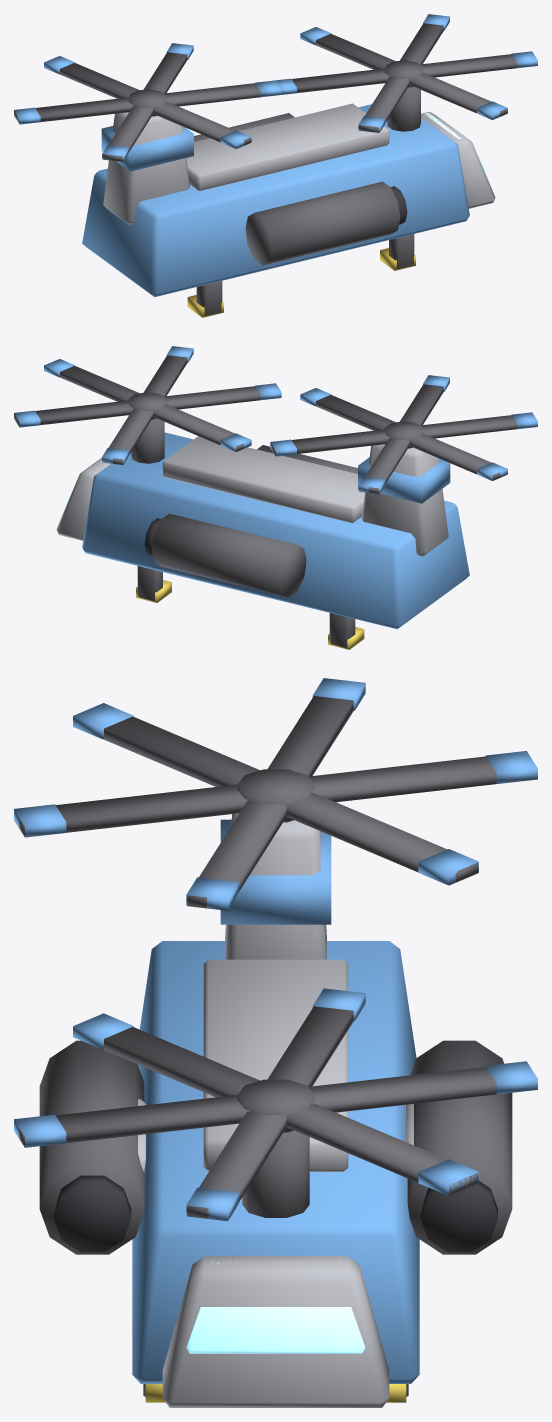
Rendered from carrier.glb.
The picture shows the model from 3 angles, top to bottom: view 1: azimuth 30°, elevation 25°; view 2: azimuth 150°, elevation 25°; view 3: azimuth 270°, elevation 25°; orthographic projection. The views are drawn at different scales.
Visible parts, largest first — view 1: body, rotor2, rotor; view 2: body, rotor2, rotor; view 3: body, rotor, rotor2.
Boxes of the visible parts, left/top/right/bottom form: body: left=82, top=87, right=495, bottom=317; rotor2: left=14, top=43, right=281, bottom=161; rotor: left=276, top=14, right=537, bottom=132; body: left=56, top=418, right=469, bottom=649; rotor2: left=270, top=375, right=537, bottom=493; rotor: left=14, top=346, right=281, bottom=464; body: left=39, top=813, right=512, bottom=1407; rotor: left=14, top=988, right=537, bottom=1220; rotor2: left=14, top=678, right=537, bottom=910.
Size of the model in its own units: 1.37 by 0.54 by 0.6515.
